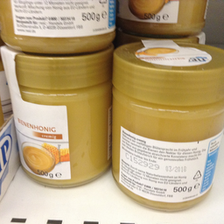honey: (111, 39, 224, 215), (1, 43, 112, 186)
